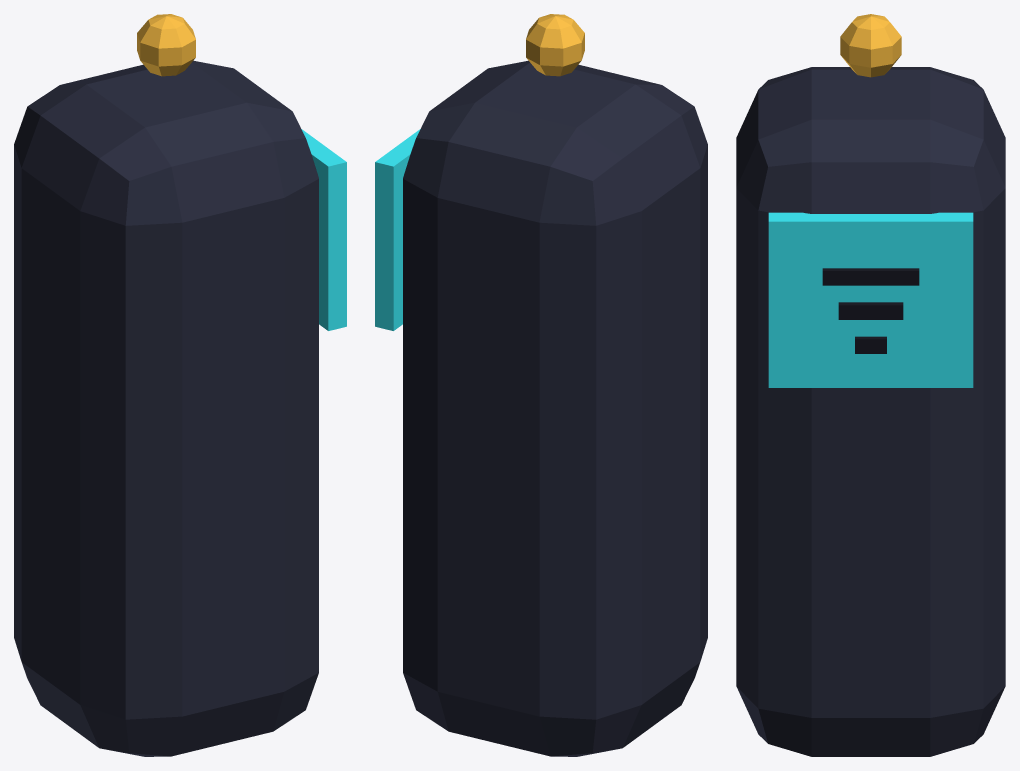
The model's file is pf_borne.glb.
3 views of the same model, side by side, from view 1: azimuth 30°, elevation 25°; view 2: azimuth 150°, elevation 25°; view 3: azimuth 270°, elevation 25° (orthographic).
Visible parts, largest first — view 1: p_rbox.167, p_box.1633, p_sph.406; view 2: p_rbox.167, p_box.1633, p_sph.406; view 3: p_rbox.167, p_box.1633, p_sph.406, p_box.1636, p_box.1635, p_box.1634.
Boxes of the visible parts, x1,y1,x2,y2 form: p_rbox.167: [14, 60, 318, 756]; p_box.1633: [301, 129, 346, 330]; p_sph.406: [137, 14, 195, 76]; p_rbox.167: [403, 60, 707, 756]; p_box.1633: [375, 129, 420, 330]; p_sph.406: [526, 14, 584, 76]; p_rbox.167: [736, 67, 1005, 756]; p_box.1633: [768, 212, 973, 387]; p_sph.406: [840, 14, 901, 77]; p_box.1636: [822, 268, 919, 285]; p_box.1635: [838, 302, 903, 319]; p_box.1634: [855, 336, 886, 353].
Size of the model in its own units: 0.5425 by 1.46 by 0.5.
